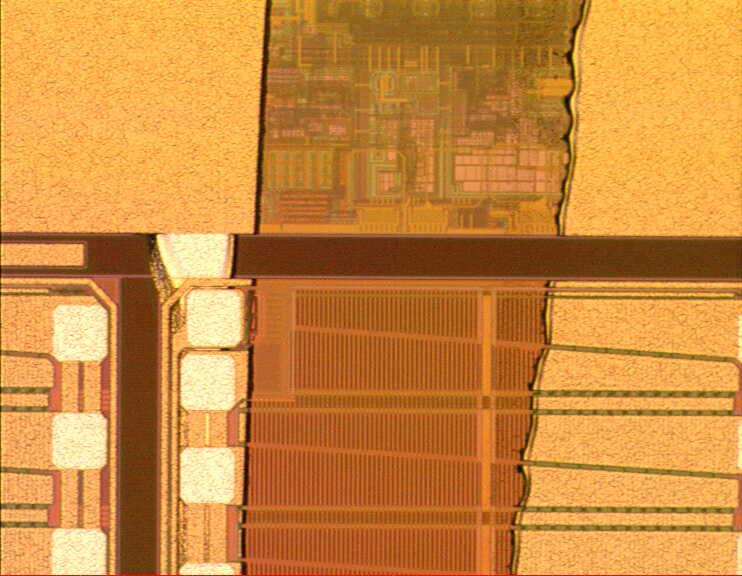BLOCK ETCH: (144, 1, 603, 576)
